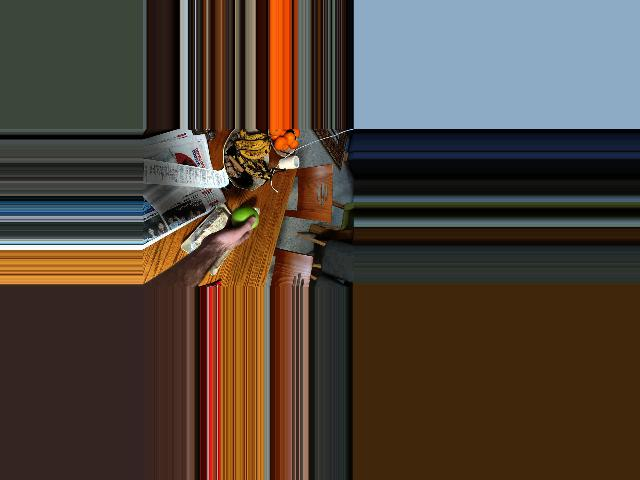apple: (229, 204, 260, 234)
